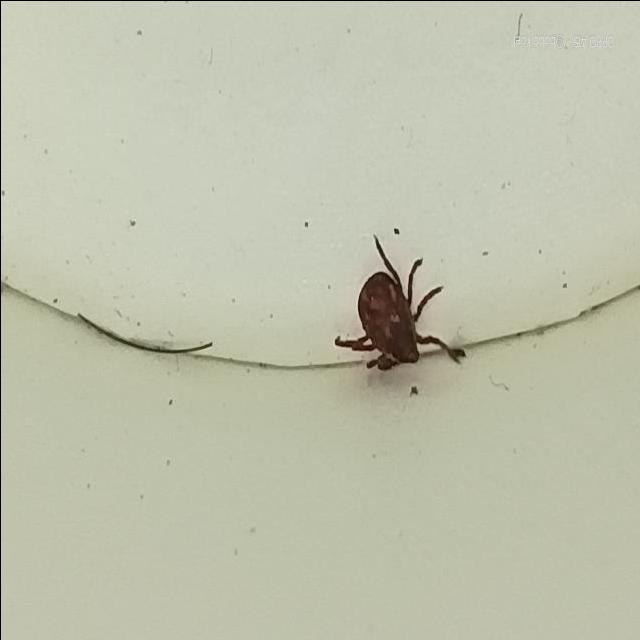Rhipicephalus Sanguineus-M: (334, 241, 466, 370)
